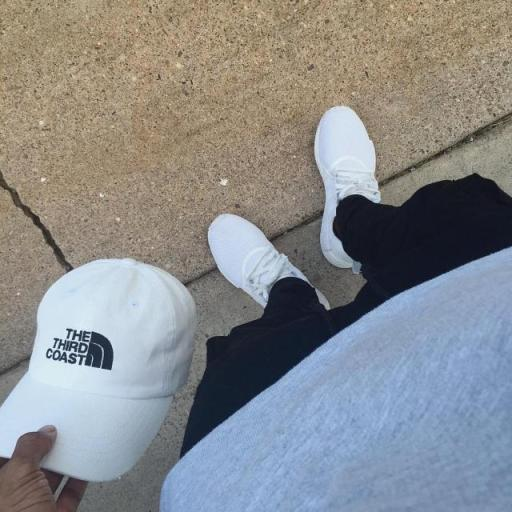The North Face: (82, 330, 118, 372)
